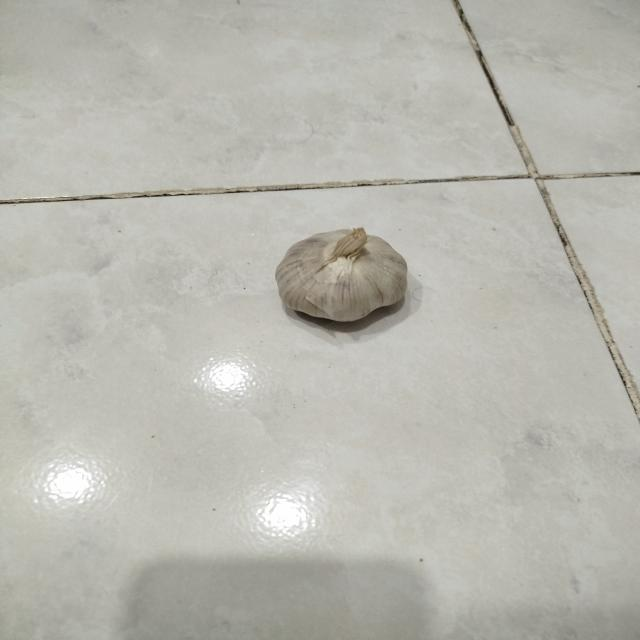garlic: (274, 226, 408, 322)
